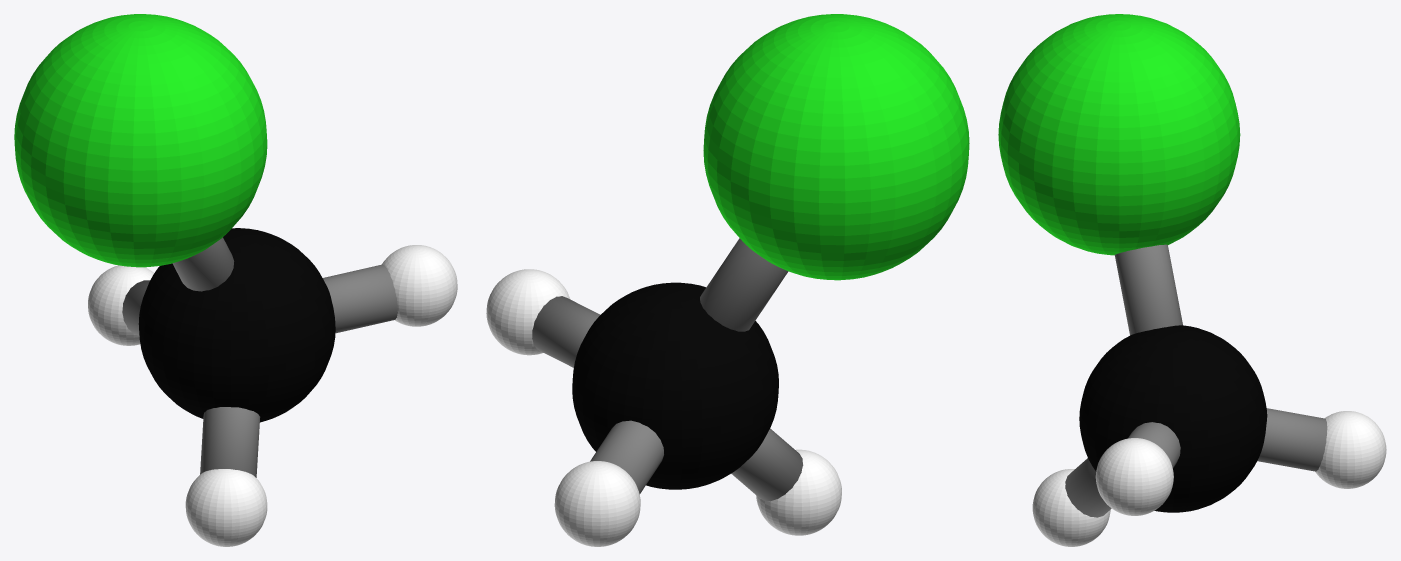
File: CLORURO DE METILO.obj
3 views of the same model, side by side, from view 1: azimuth 30°, elevation 25°; view 2: azimuth 150°, elevation 25°; view 3: azimuth 270°, elevation 25° (orthographic). The views are drawn at different scales.
Parts seen in each view (by area): view 1: Chlorine_ball_Sphere.001, Carbon_ball_Sphere.002, Hydrogen_ball_Sphere, Stick_Cylinder.003_Cylinder.003, Stick_Cylinder_Cylinder, Stick_Cylinder.001_Cylinder.001, Stick_Cylinder.002_Cylinder.002; view 2: Chlorine_ball_Sphere.001, Carbon_ball_Sphere.002, Hydrogen_ball_Sphere, Stick_Cylinder.001_Cylinder.001, Stick_Cylinder.003_Cylinder.003, Stick_Cylinder_Cylinder, Stick_Cylinder.002_Cylinder.002; view 3: Chlorine_ball_Sphere.001, Carbon_ball_Sphere.002, Hydrogen_ball_Sphere, Stick_Cylinder.001_Cylinder.001, Stick_Cylinder.002_Cylinder.002, Stick_Cylinder_Cylinder, Stick_Cylinder.003_Cylinder.003.
Boxes of the visible parts, x1,y1,x2,y2 form: Chlorine_ball_Sphere.001: (14, 14, 267, 267); Carbon_ball_Sphere.002: (138, 228, 335, 422); Hydrogen_ball_Sphere: (88, 245, 457, 546); Stick_Cylinder.003_Cylinder.003: (322, 264, 397, 333); Stick_Cylinder_Cylinder: (200, 407, 260, 477); Stick_Cylinder.001_Cylinder.001: (172, 237, 234, 291); Stick_Cylinder.002_Cylinder.002: (122, 280, 149, 335); Chlorine_ball_Sphere.001: (703, 14, 969, 280); Carbon_ball_Sphere.002: (572, 282, 778, 489); Hydrogen_ball_Sphere: (486, 269, 841, 546); Stick_Cylinder.001_Cylinder.001: (700, 238, 788, 331); Stick_Cylinder.003_Cylinder.003: (532, 296, 600, 367); Stick_Cylinder_Cylinder: (731, 428, 803, 500); Stick_Cylinder.002_Cylinder.002: (590, 420, 663, 494); Chlorine_ball_Sphere.001: (998, 14, 1240, 255); Carbon_ball_Sphere.002: (1079, 325, 1267, 512); Hydrogen_ball_Sphere: (1032, 411, 1386, 546); Stick_Cylinder.001_Cylinder.001: (1114, 244, 1182, 335); Stick_Cylinder.002_Cylinder.002: (1257, 408, 1327, 471); Stick_Cylinder_Cylinder: (1065, 458, 1111, 517); Stick_Cylinder.003_Cylinder.003: (1128, 422, 1180, 468).
Size of the model in its own units: 3.48 by 3.98 by 2.86.
